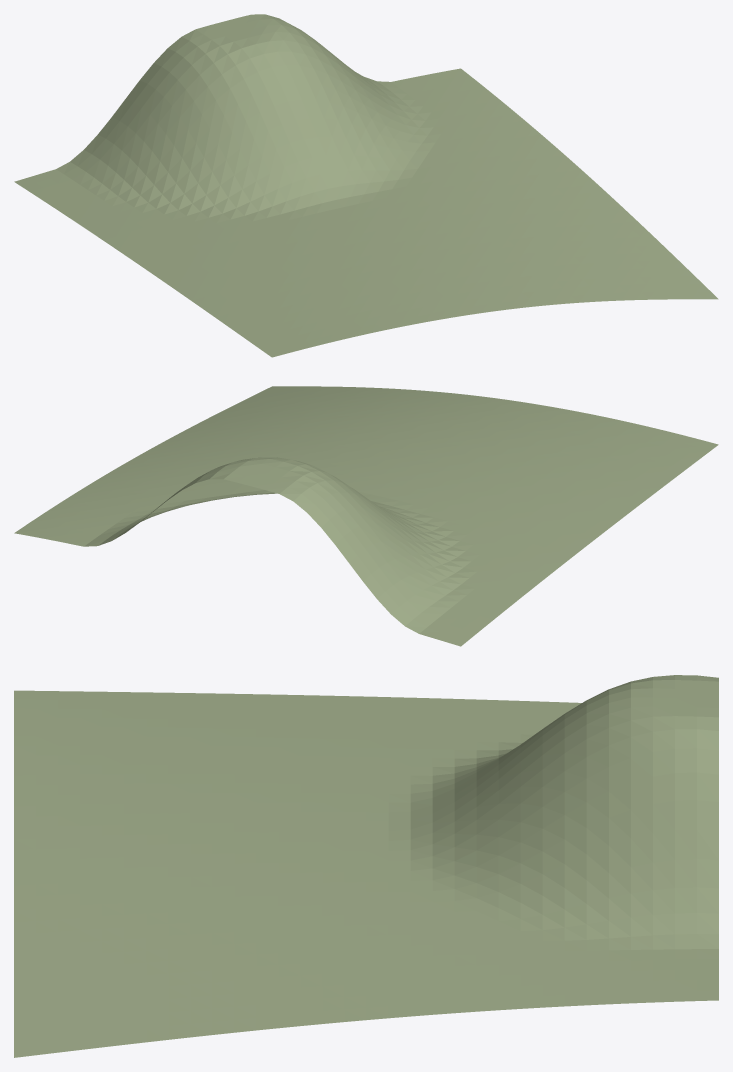
File: expanse-5-25.glb
3 renders of one model, top to bottom at view 1: azimuth 30°, elevation 25°; view 2: azimuth 150°, elevation 25°; view 3: azimuth 270°, elevation 25°, orthographic. The views are drawn at different scales.
Visible parts, largest first — view 1: expanse-5-25; view 2: expanse-5-25; view 3: expanse-5-25.
Part boxes in pixels (box(x1,y1,x2,y2)): expanse-5-25: box(14, 14, 718, 357); expanse-5-25: box(14, 386, 718, 646); expanse-5-25: box(14, 675, 718, 1057).
Bounding box in the file's own units: 256 × 81.15 × 256.
